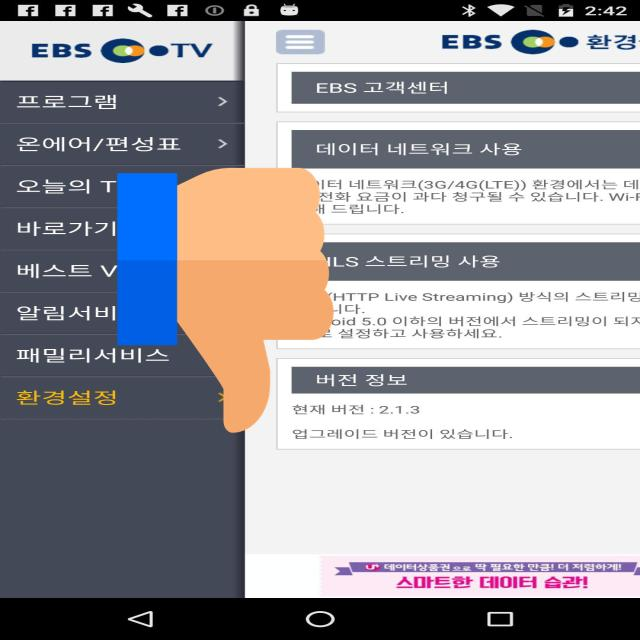obstruction: (117, 162, 334, 440)
